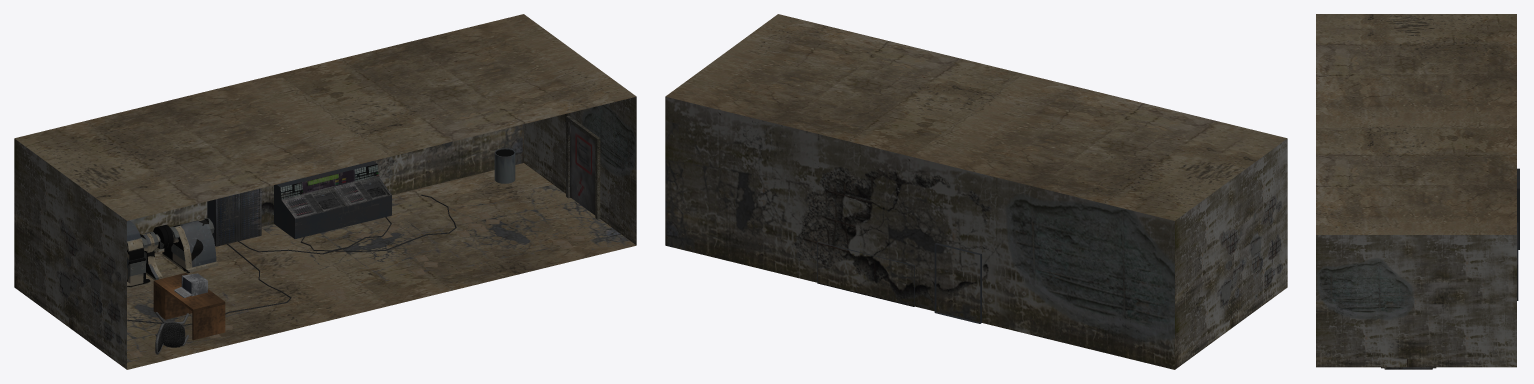
The model's file is Scense3.FBX.
3 renders of one model, left to right at view 1: azimuth 30°, elevation 25°; view 2: azimuth 150°, elevation 25°; view 3: azimuth 270°, elevation 25°, orthographic. The views are drawn at different scales.
Visible parts, largest first — view 1: Scense3, Apparatura, Musor3, Box02, Stol and Stul; view 2: Scense3, Apparatura; view 3: Scense3, Apparatura, Musor3.
Part boxes in pixels (x1,y1,x2,y2): Scense3: (14,14,636,369); Apparatura: (207,161,391,246); Musor3: (127,115,600,357); Box02: (127,218,218,289); Stol and Stul: (153,273,225,354); Scense3: (665,14,1287,369); Apparatura: (817,242,981,323); Scense3: (1316,14,1516,367); Apparatura: (1517,168,1519,300); Musor3: (1381,295,1436,369).
Bounding box in the file's own units: 83.87 × 23.86 × 32.62.
Materials: 5 (5 with a texture image).
